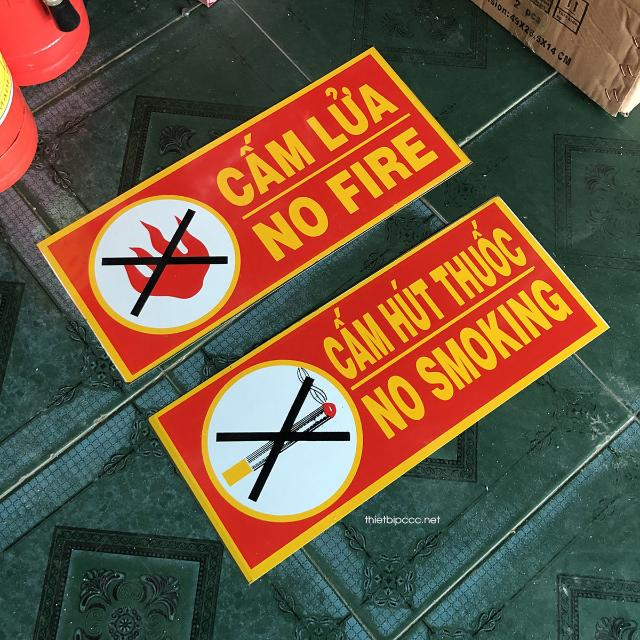cam lua: (39, 49, 470, 381)
